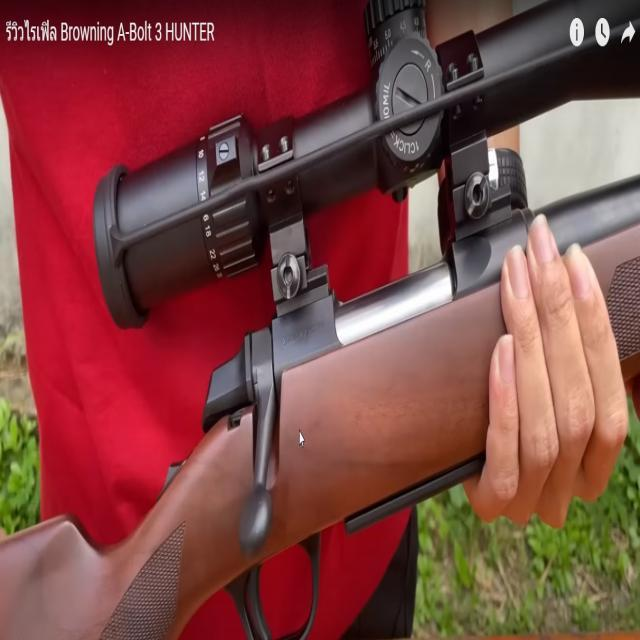rifle: (7, 11, 636, 640)
